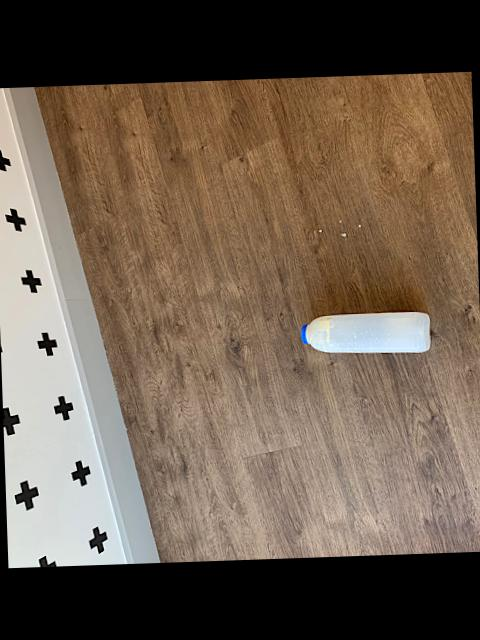plastic: (299, 311, 428, 351)
